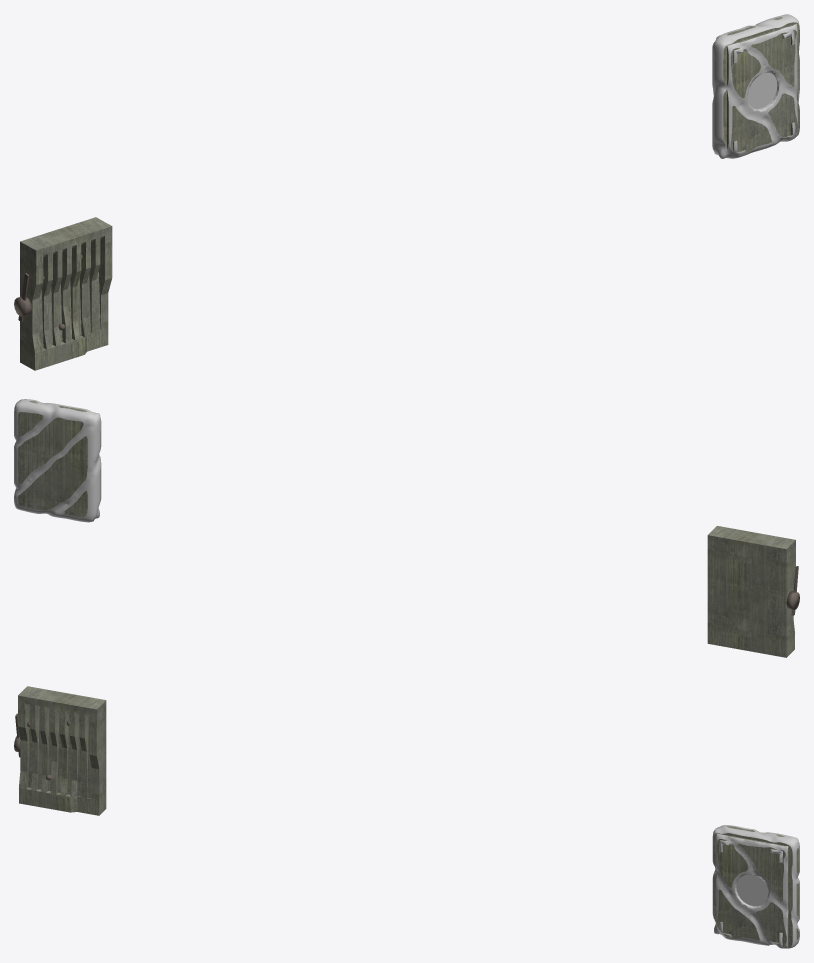
File: SM_Corridor_02_16.fbx
3 renders of one model, top to bottom at view 1: azimuth 30°, elevation 25°; view 2: azimuth 150°, elevation 25°; view 3: azimuth 330°, elevation 25°, orthographic. The views are drawn at different scales.
Parts seen in each view (by area): view 1: SM_Corridor_02_16; view 2: SM_Corridor_02_16; view 3: SM_Corridor_02_16.
Boxes of the visible parts, x1=… form: SM_Corridor_02_16: x1=14, y1=14, x2=799, y2=370; SM_Corridor_02_16: x1=14, y1=399, x2=799, y2=657; SM_Corridor_02_16: x1=14, y1=686, x2=799, y2=948.
Bounding box in the file's own units: 1821 × 261 × 230.
